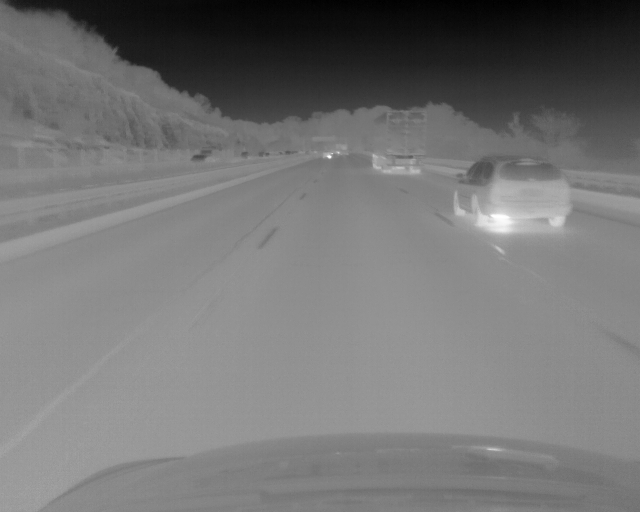car: (450, 157, 574, 230), (371, 110, 427, 176), (190, 154, 214, 163)
